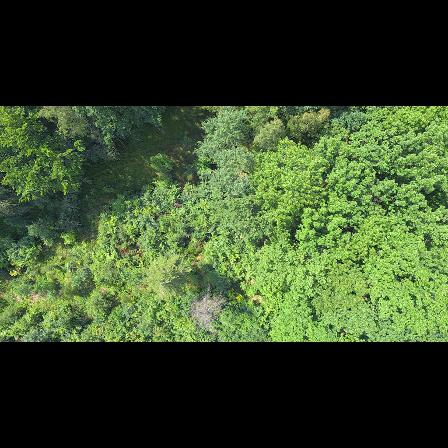Dead: (188, 288, 228, 332)
